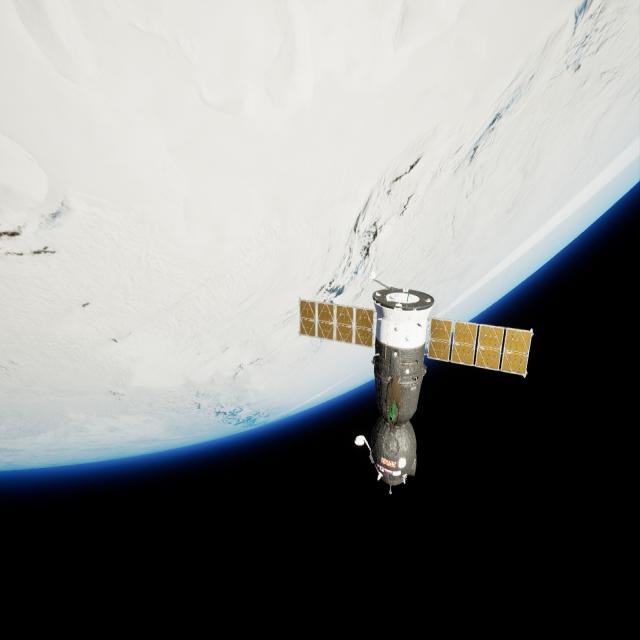Satellites revolving around earth: (297, 278, 535, 495)
